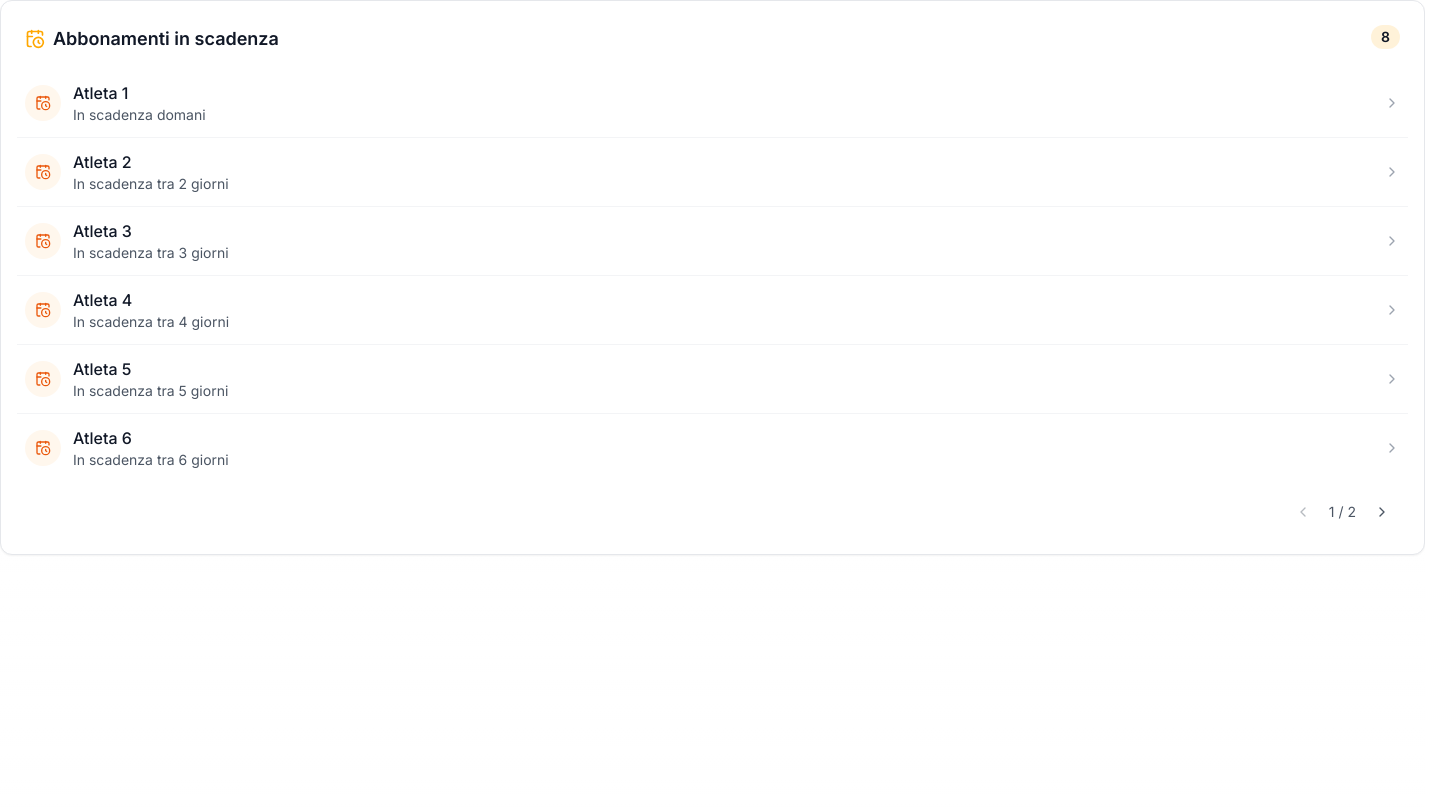
SubscriptionAlertsWidget › pages through more than 6 rows
Expected: the text "8" is shown, [1371,25,1400,49]
Expected: the number of links is 6, [25,83,1400,123]; [25,152,1400,192]; [25,221,1400,261]; [25,290,1400,330]; [25,359,1400,399]; [25,428,1400,468]
Click the button named "Pagina successiva": (1382, 512) [1364,494,1400,530]
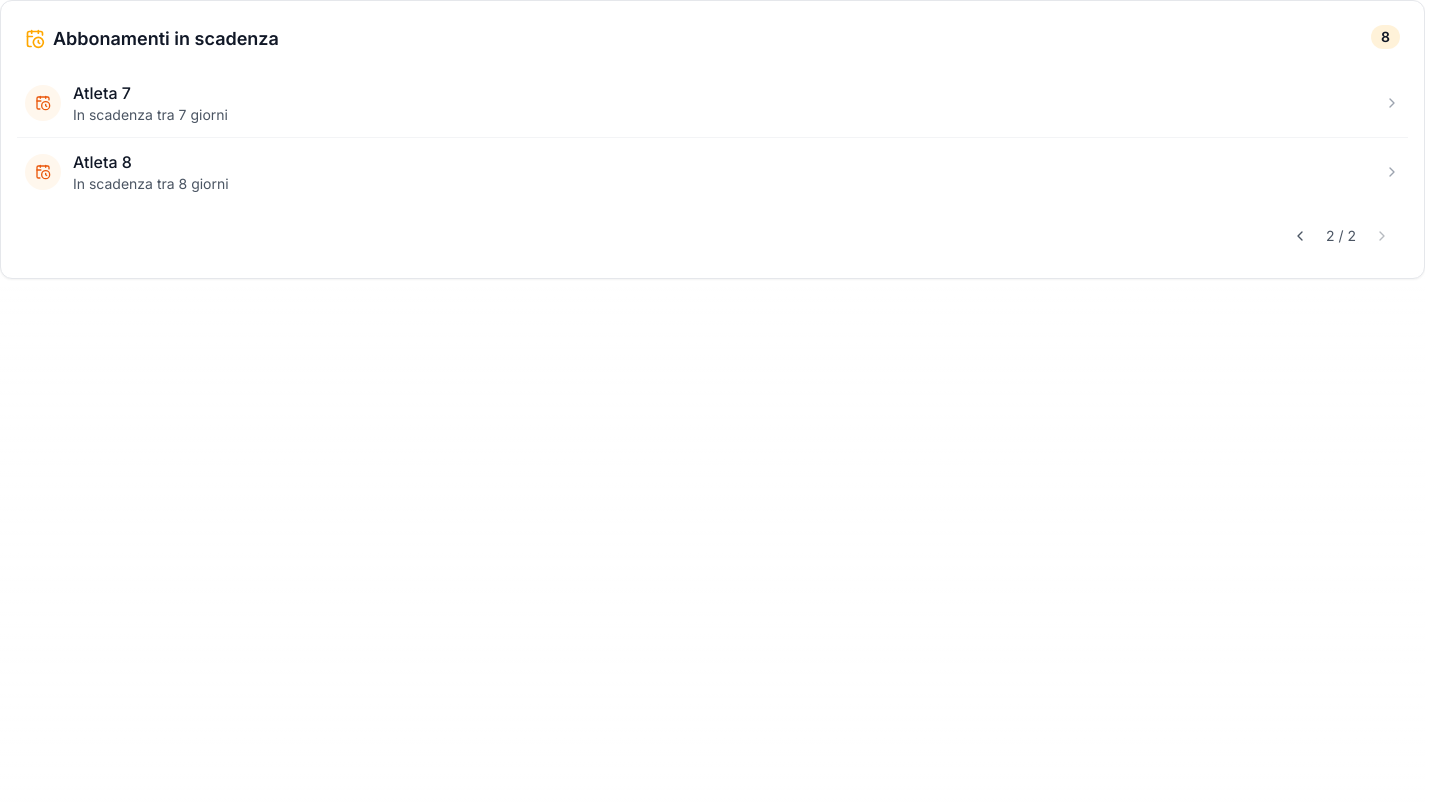
Expected: the text "2 / 2" is shown, [1326,226,1356,246]
Expected: the button named "Pagina successiva" is disabled, [1364,218,1400,254]
Click the button named "Pagina precedente": (1300, 236) [1282,218,1318,254]
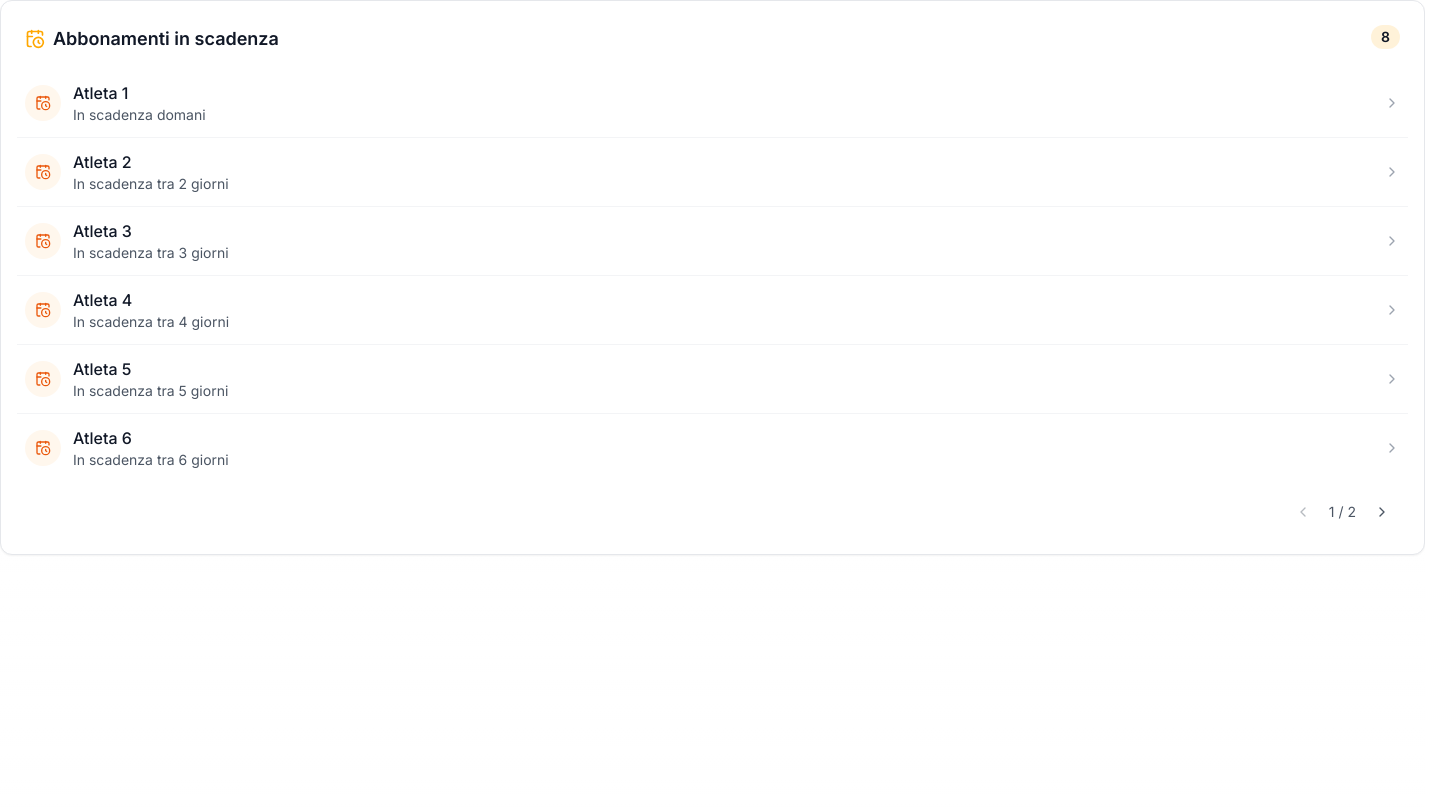
Expected: the number of links is 6, [25,83,1400,123]; [25,152,1400,192]; [25,221,1400,261]; [25,290,1400,330]; [25,359,1400,399]; [25,428,1400,468]
